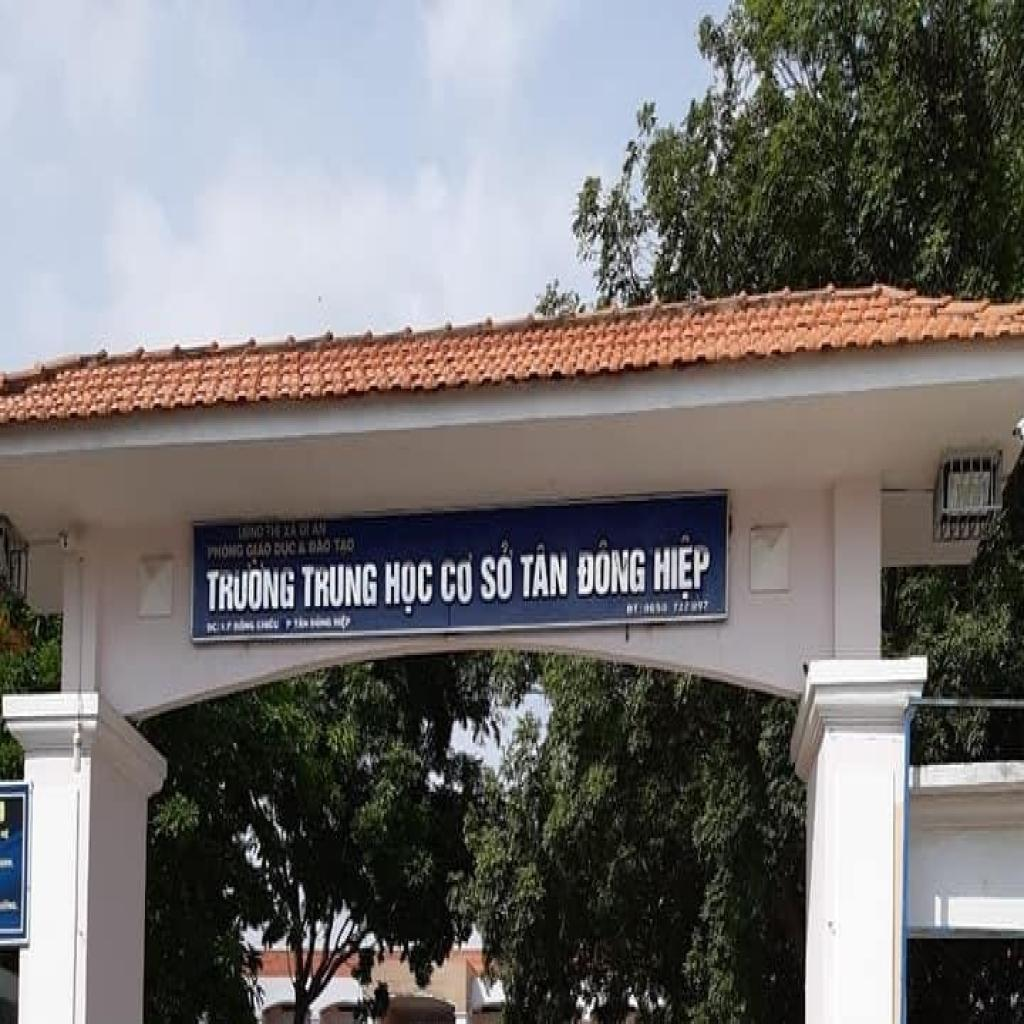text: (202, 558, 299, 618), (575, 535, 650, 606), (652, 528, 716, 601), (299, 560, 381, 611), (518, 540, 573, 606), (382, 555, 436, 618), (480, 532, 516, 608), (440, 550, 476, 611), (205, 540, 246, 565), (306, 535, 333, 560), (244, 540, 274, 562), (333, 535, 357, 562), (273, 538, 299, 562), (236, 523, 266, 543), (263, 520, 283, 542), (311, 518, 330, 540), (283, 521, 300, 540), (298, 520, 312, 542)
